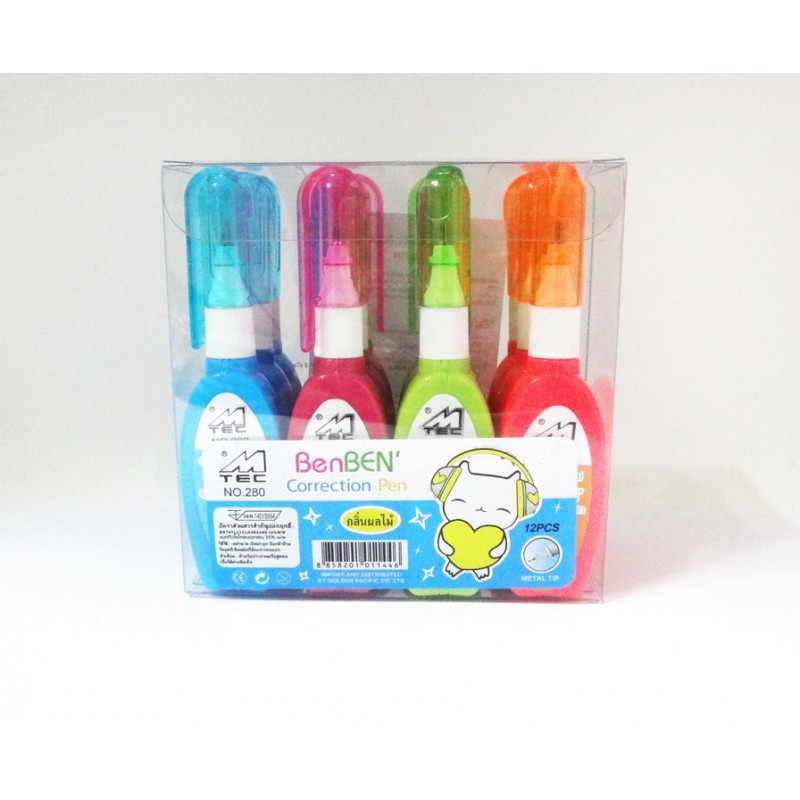Correction_fluid: (391, 162, 513, 600), (166, 167, 285, 601), (499, 158, 606, 595), (288, 163, 391, 602)
